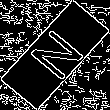N_SE: (21, 24, 89, 86)
